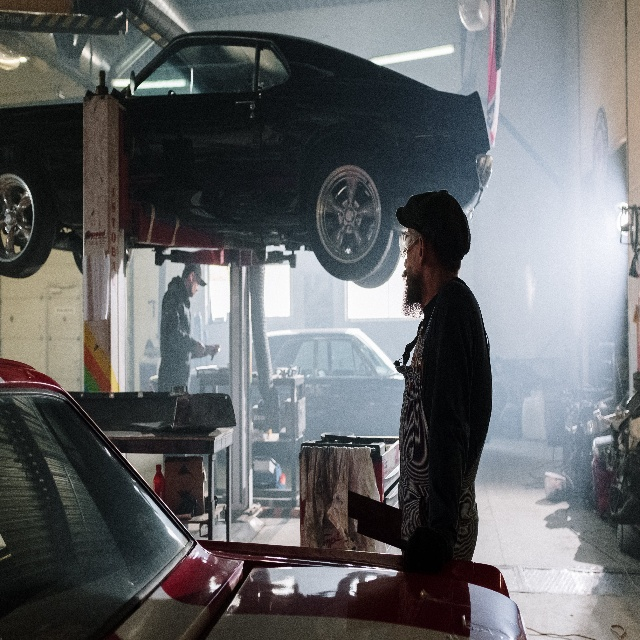Guantes: (401, 519, 455, 575)
